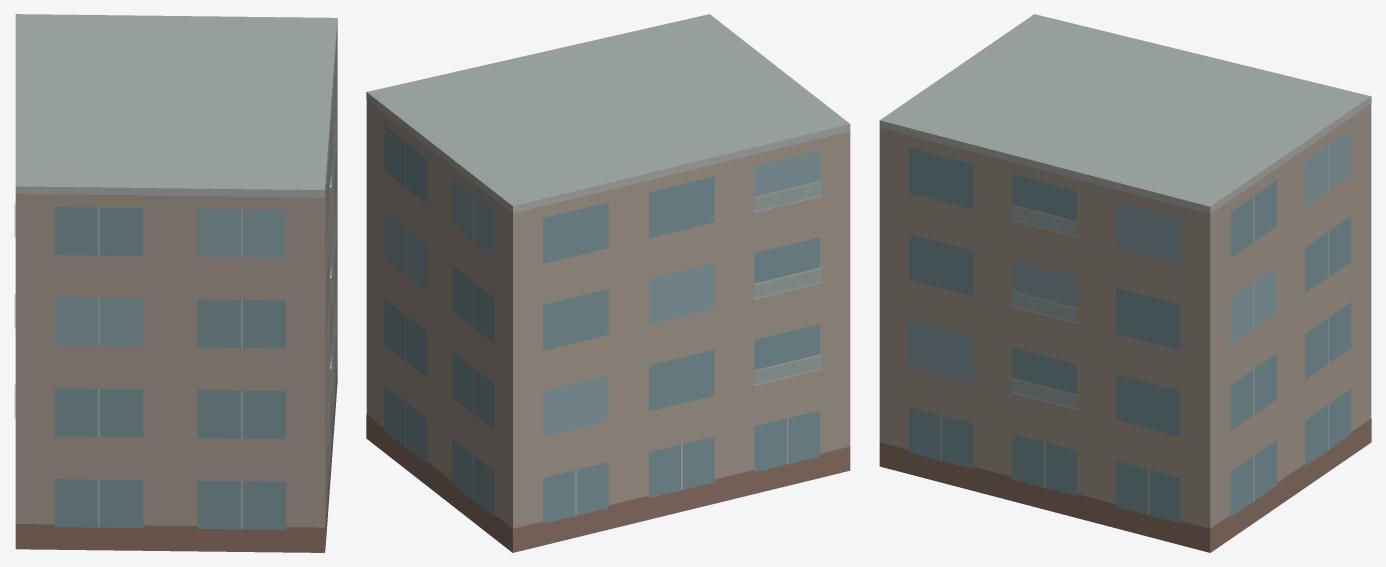
Rendered from survey-upis-32903890.glb.
The picture shows the model from 3 angles, left to right: view 1: azimuth 30°, elevation 25°; view 2: azimuth 150°, elevation 25°; view 3: azimuth 270°, elevation 25°; orthographic projection. The views are drawn at different scales.
Visible parts, largest first — view 1: survey-upis-32903890.tmp; view 2: survey-upis-32903890.tmp; view 3: survey-upis-32903890.tmp.
Boxes of the visible parts, <box> form: survey-upis-32903890.tmp: <box>14,14,337,552</box>; survey-upis-32903890.tmp: <box>366,14,850,552</box>; survey-upis-32903890.tmp: <box>879,14,1371,552</box>.
Bounding box in the file's own units: 13.99 × 11.7 × 15.08.
